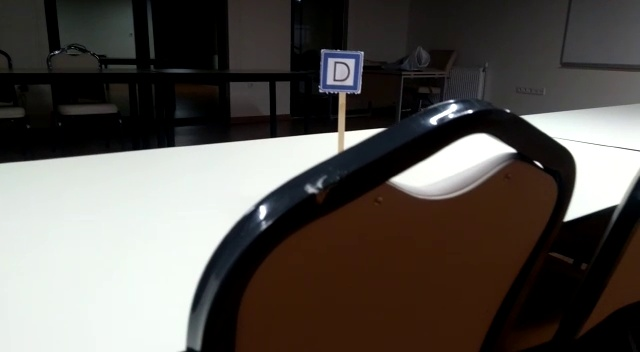durak: (321, 51, 361, 90)
